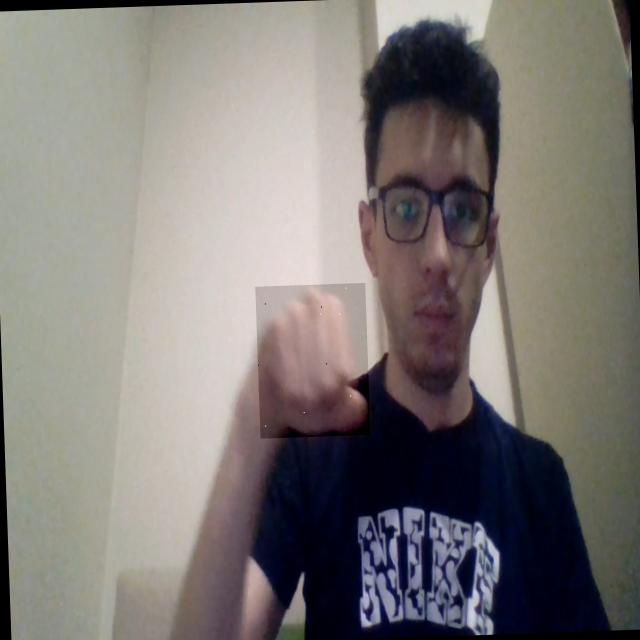yes: (255, 282, 370, 438)
